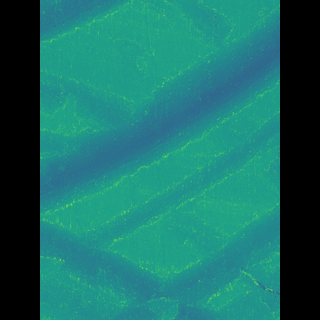Loch: (69, 5, 250, 219), (100, 108, 250, 259), (69, 219, 205, 320)
